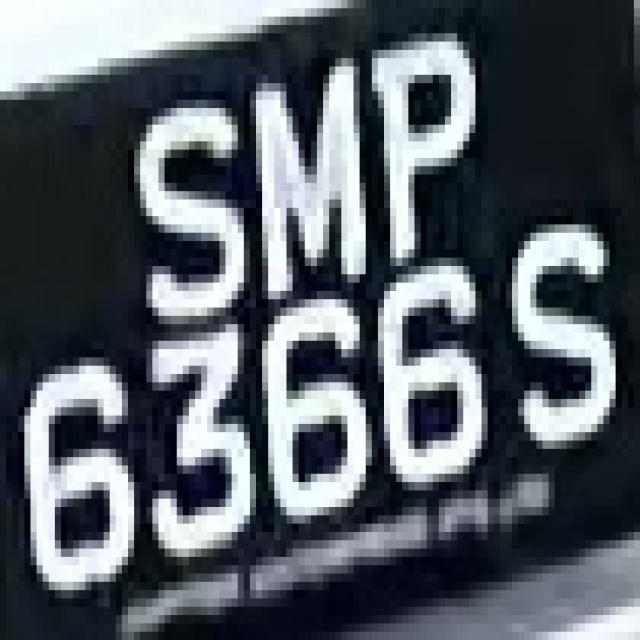3: (122, 307, 268, 574)
6: (232, 283, 384, 540), (6, 341, 122, 598), (378, 241, 481, 507)
M: (232, 41, 378, 316)
P: (359, 25, 482, 266)
S: (482, 200, 616, 457), (110, 75, 244, 316)
